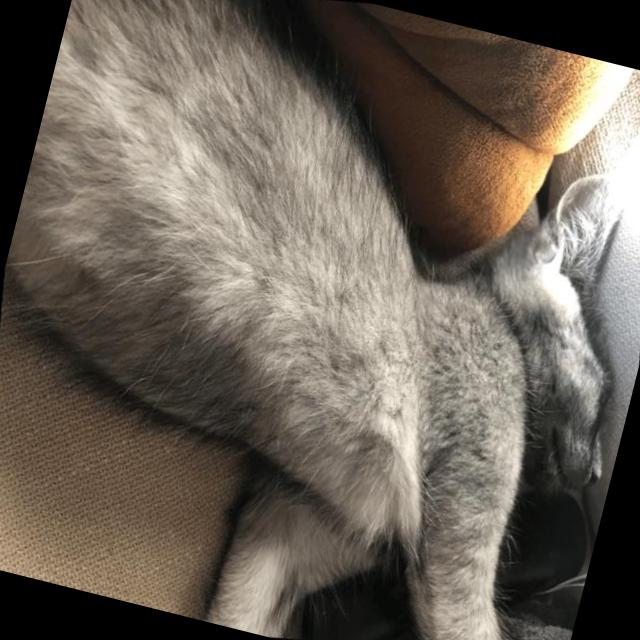Healthy skin: (14, 0, 248, 268), (170, 188, 374, 421), (314, 227, 429, 433), (377, 336, 513, 494), (208, 77, 326, 213), (253, 460, 373, 584), (491, 282, 572, 372), (429, 540, 495, 640)
